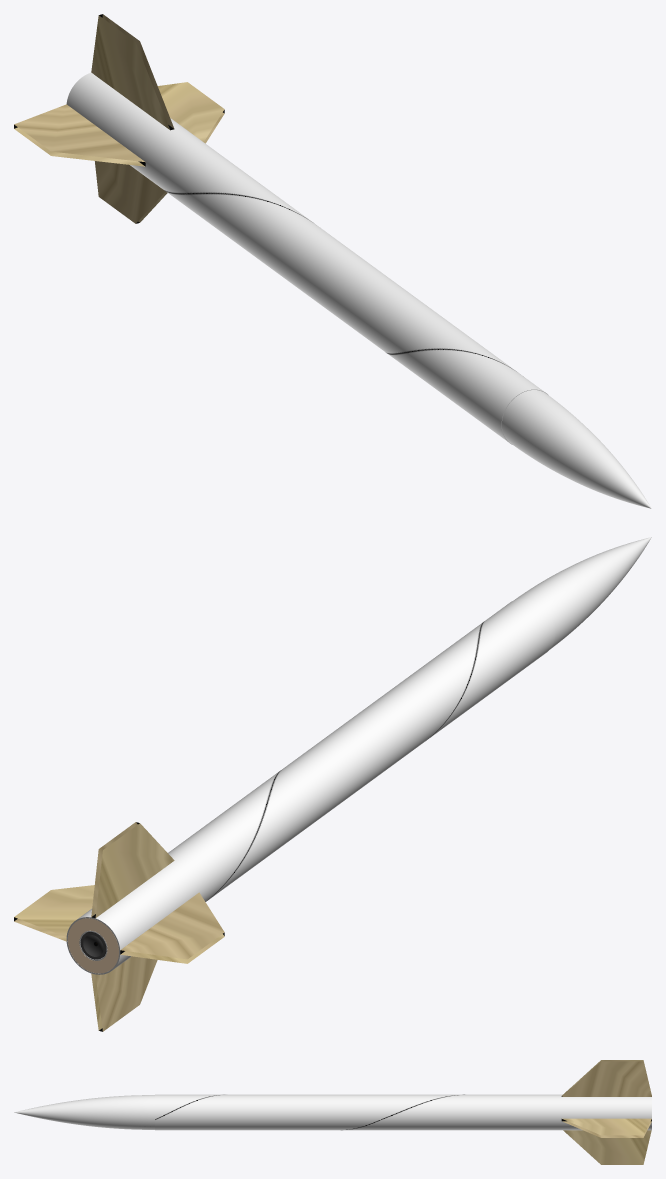
Rendered from l1l2-mfire.obj.
3 views of the same model, one above another, from view 1: azimuth 30°, elevation 25°; view 2: azimuth 150°, elevation 25°; view 3: azimuth 270°, elevation 25° (orthographic). The views are drawn at different scales.
Visible parts, largest first — view 1: 4_Body Tube, 2_Body Tube, 9_Trapezoidal Fin Set, 1_Nose Cone; view 2: 4_Body Tube, 2_Body Tube, 9_Trapezoidal Fin Set, 1_Nose Cone, 6_Centering Ring; view 3: 4_Body Tube, 2_Body Tube, 9_Trapezoidal Fin Set, 1_Nose Cone.
Boxes of the visible parts, x1,y1,x2,y2 form: 4_Body Tube: (66,72,345,297); 2_Body Tube: (303,245,547,444); 9_Trapezoidal Fin Set: (14,14,224,223); 1_Nose Cone: (502,390,651,508); 4_Body Tube: (66,743,357,974); 2_Body Tube: (314,598,555,795); 9_Trapezoidal Fin Set: (14,822,224,1031); 1_Nose Cone: (515,537,651,649); 6_Centering Ring: (67,918,118,973); 4_Body Tube: (381,1094,651,1130); 2_Body Tube: (155,1094,380,1130); 9_Trapezoidal Fin Set: (561,1060,651,1164); 1_Nose Cone: (14,1095,154,1129).
Bounding box in the file's own units: 5.15 × 5.15 × 28.7.
